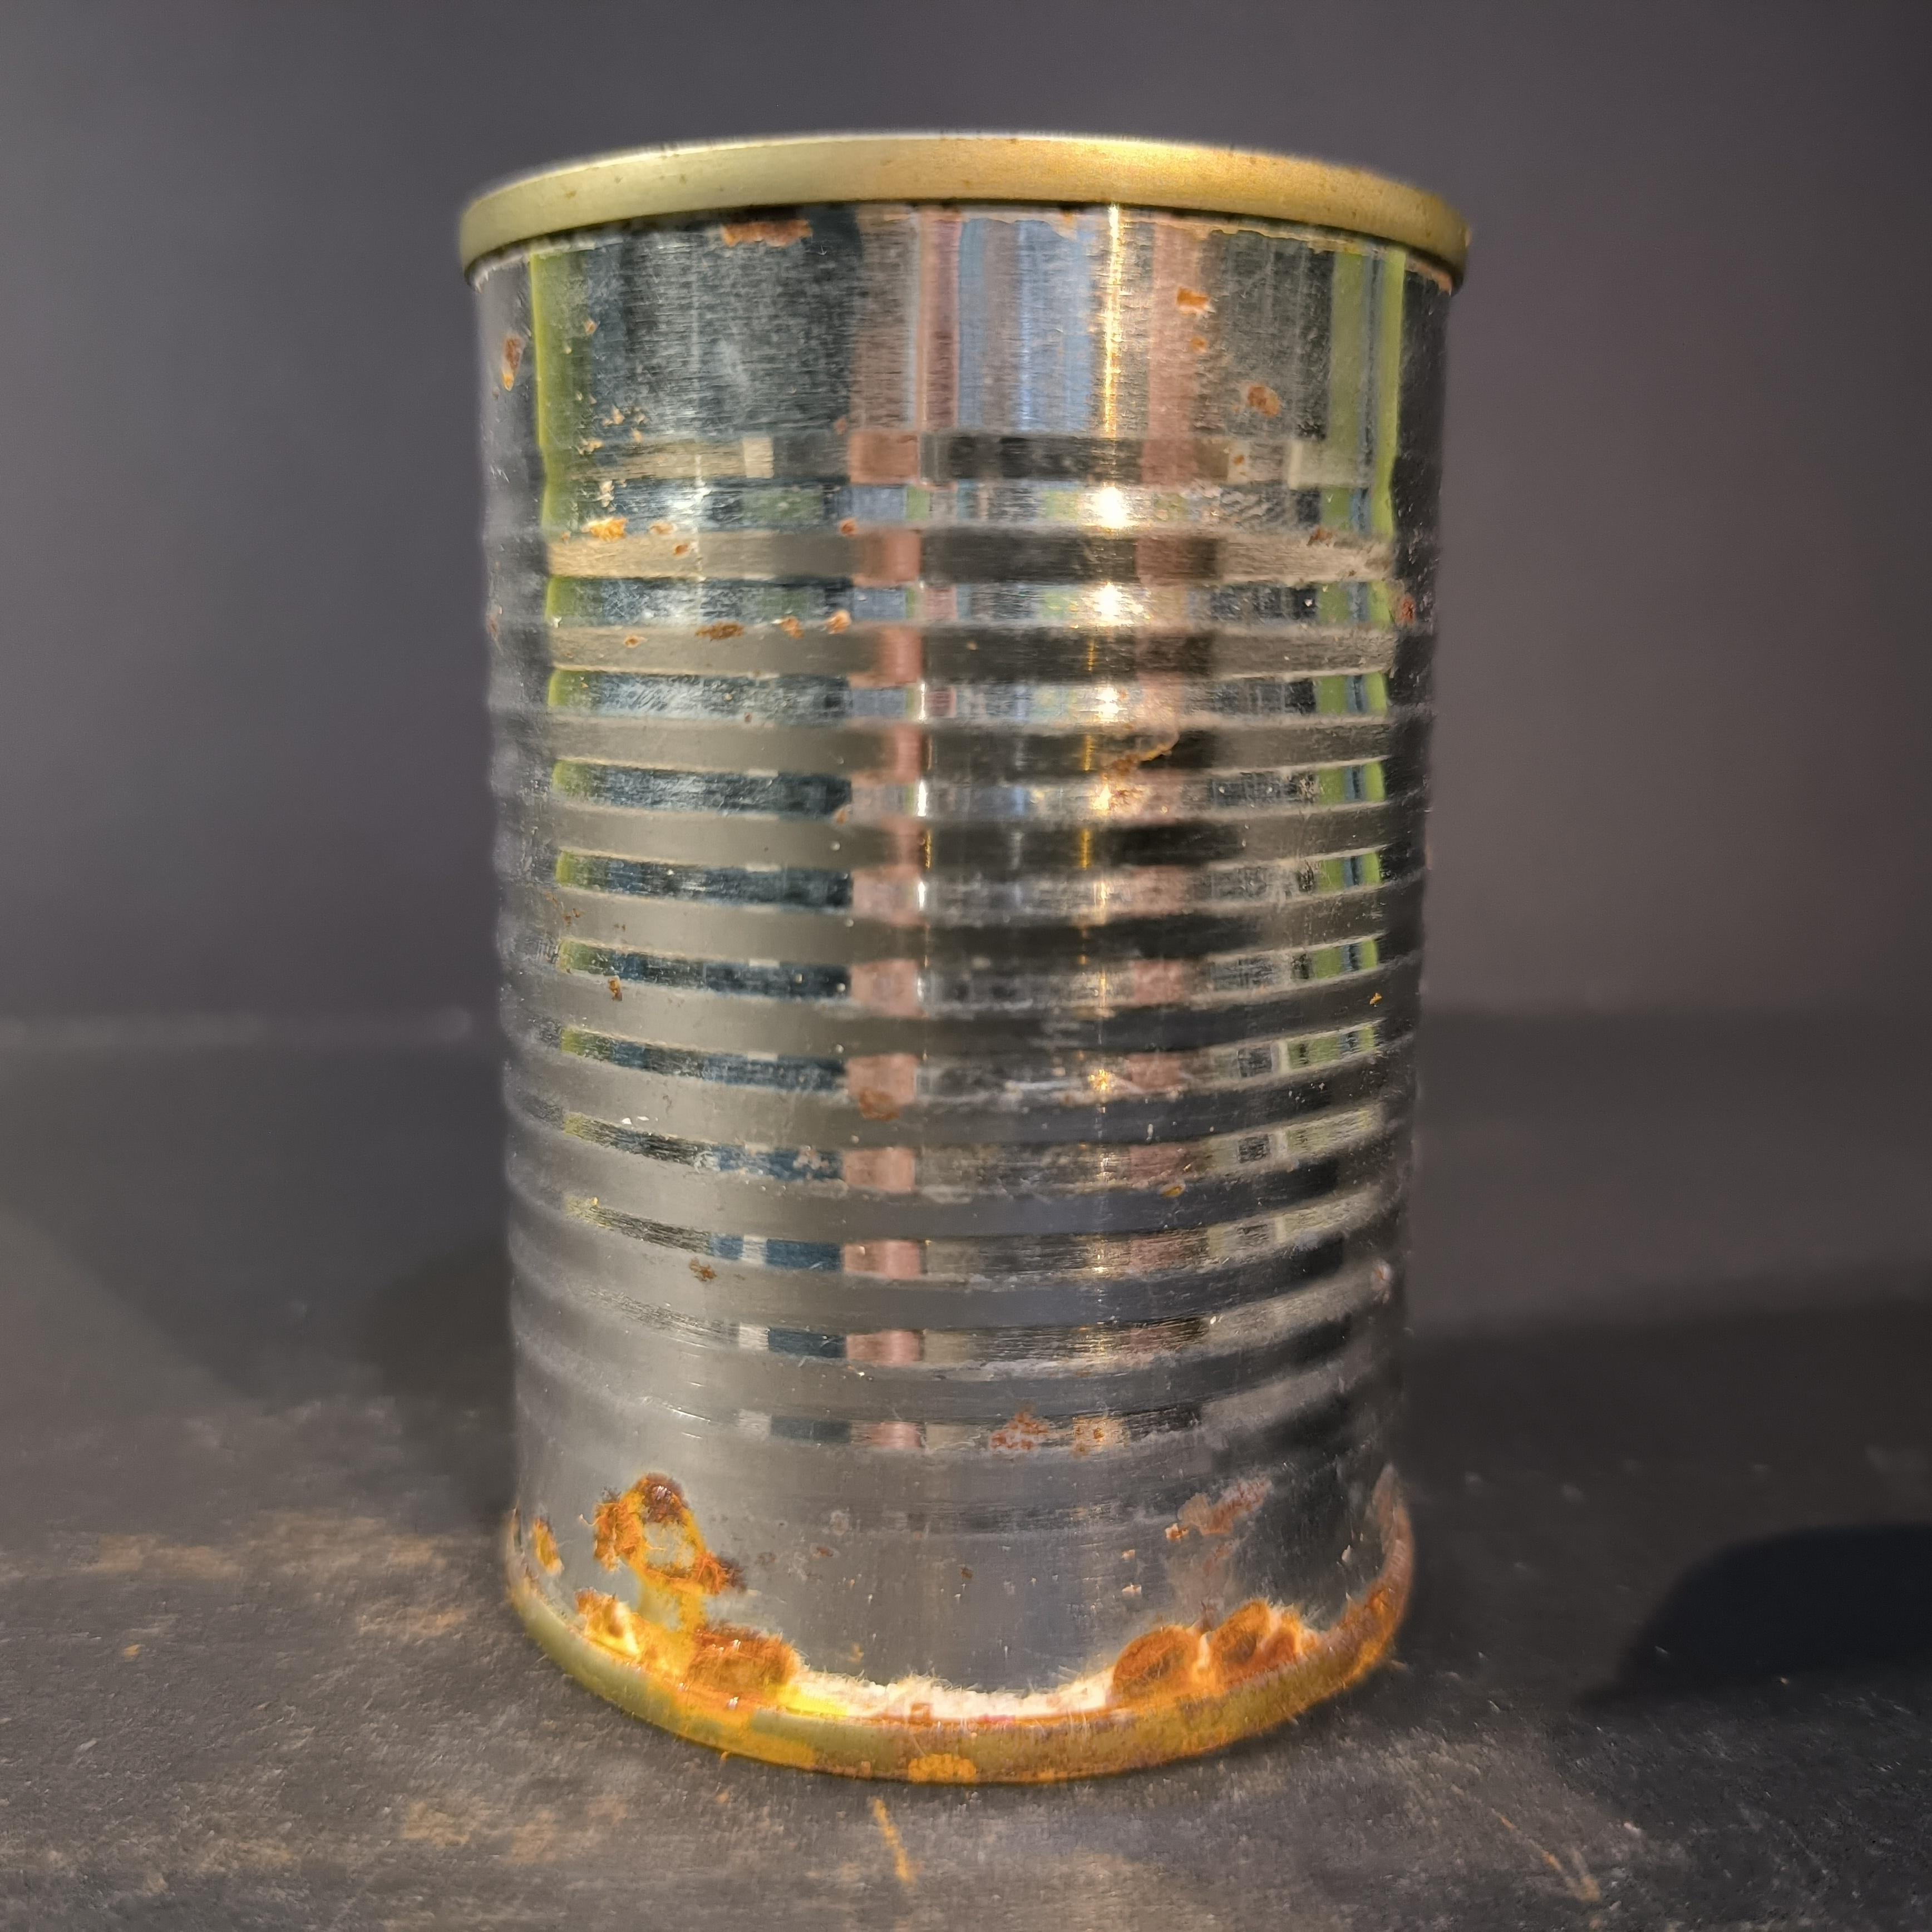Rusted: (428, 106, 1449, 1783)
